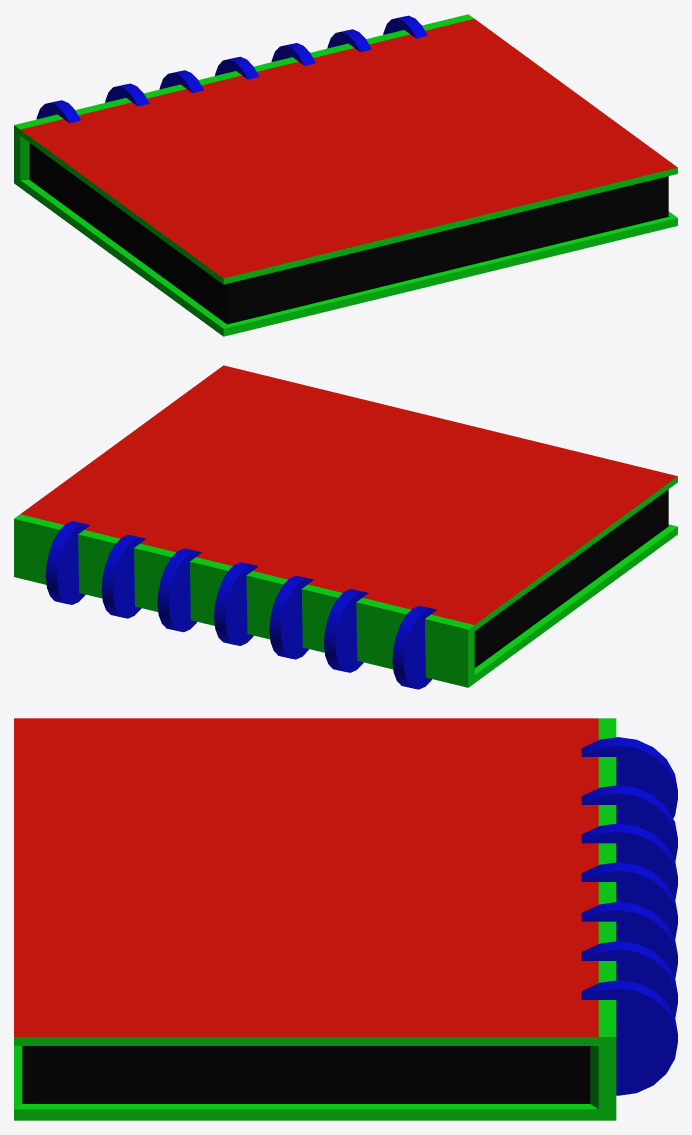
The model's file is SM_manuel.fbx.
The picture shows the model from 3 angles, top to bottom: view 1: azimuth 30°, elevation 25°; view 2: azimuth 150°, elevation 25°; view 3: azimuth 270°, elevation 25°; orthographic projection. The views are drawn at different scales.
Visible parts, largest first — view 1: pCylinder8; view 2: pCylinder8; view 3: pCylinder8.
Part boxes in pixels (x1,y1,x2,y2): pCylinder8: [14, 14, 677, 336]; pCylinder8: [14, 365, 677, 689]; pCylinder8: [14, 718, 677, 1120].
Bounding box in the file's own units: 100 × 15.88 × 88.06.
